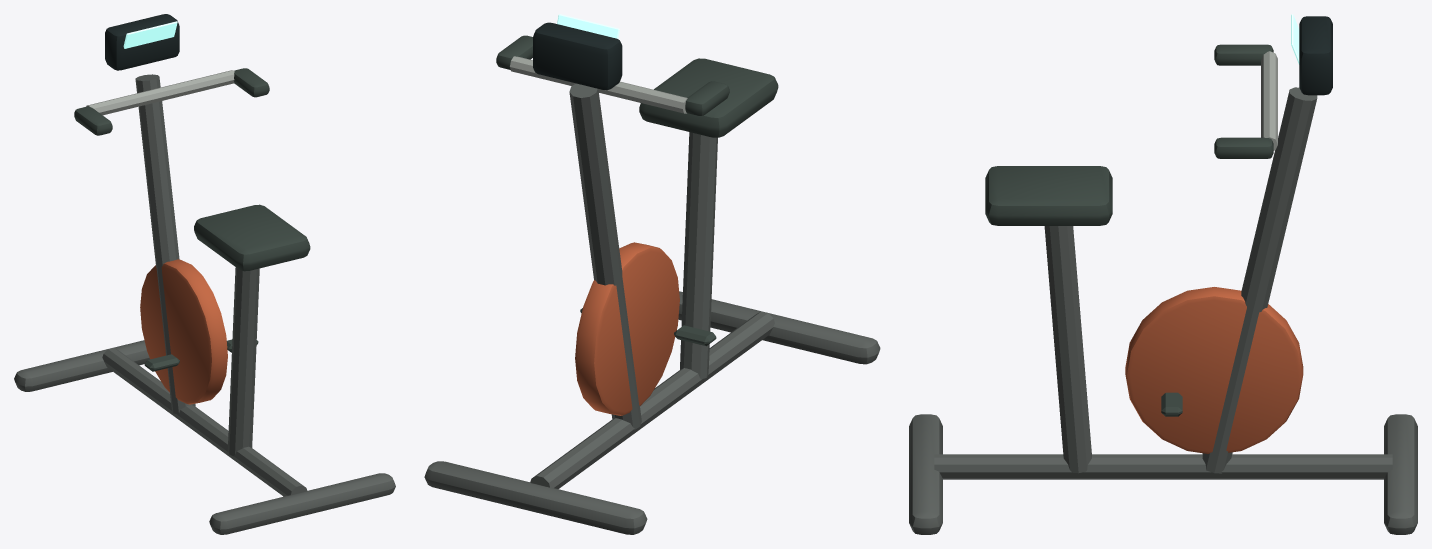
Rendered from exercise_bike.glb.
The picture shows the model from 3 angles, left to right: view 1: azimuth 30°, elevation 25°; view 2: azimuth 150°, elevation 25°; view 3: azimuth 270°, elevation 25°; orthographic projection. The views are drawn at different scales.
Visible parts, largest first — view 1: FURN-exercise_bike; view 2: FURN-exercise_bike; view 3: FURN-exercise_bike.
Part boxes in pixels (x1,y1,x2,y2): FURN-exercise_bike: (14, 14, 395, 534); FURN-exercise_bike: (424, 14, 880, 534); FURN-exercise_bike: (909, 14, 1417, 534).
Size of the model in its own units: 0.6 by 1.19 by 1.2.
